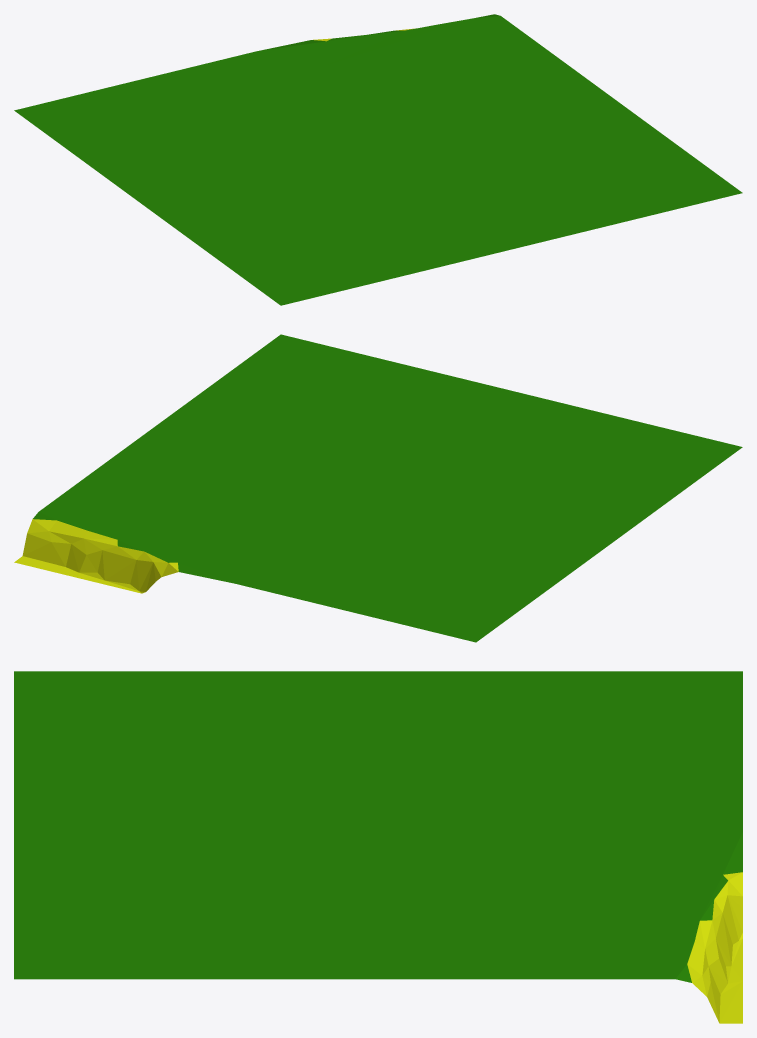
3 views of the same model, one above another, from view 1: azimuth 30°, elevation 25°; view 2: azimuth 150°, elevation 25°; view 3: azimuth 270°, elevation 25° (orthographic). The views are drawn at different scales.
Visible parts, largest first — view 1: TerrainVeryHigh.014; view 2: TerrainVeryHigh.014; view 3: TerrainVeryHigh.014.
Part boxes in pixels (<box>): TerrainVeryHigh.014: <box>14,14,742,305</box>; TerrainVeryHigh.014: <box>14,334,742,642</box>; TerrainVeryHigh.014: <box>14,671,742,1023</box>.
Bounding box in the file's own units: 1250 × 1251 × 84.69.
